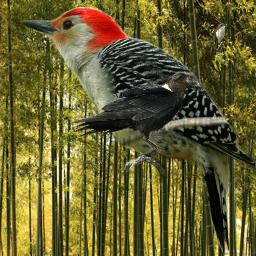Crow: (69, 71, 201, 153)
Cuckoo: (214, 22, 227, 63)
Woodpecker: (21, 6, 255, 255)
